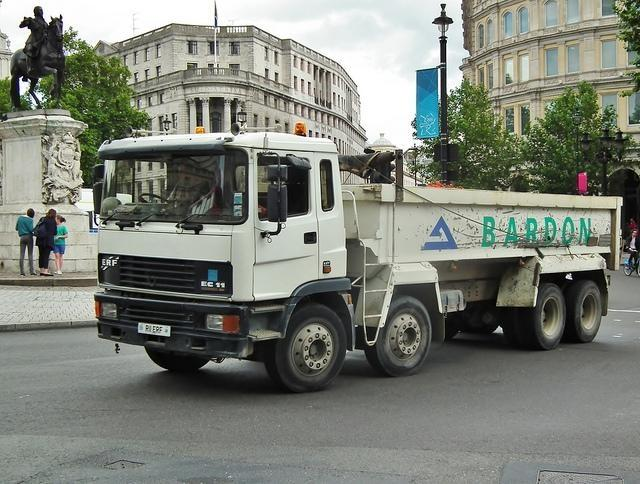bicycle: (623, 249, 640, 277)
truck: (97, 132, 628, 380)
